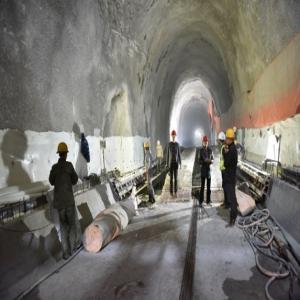red: (202, 135, 209, 149), (172, 131, 178, 142)
white: (219, 132, 226, 146), (157, 141, 161, 147)
yellow: (59, 143, 69, 161), (226, 128, 235, 146), (144, 142, 151, 153)
